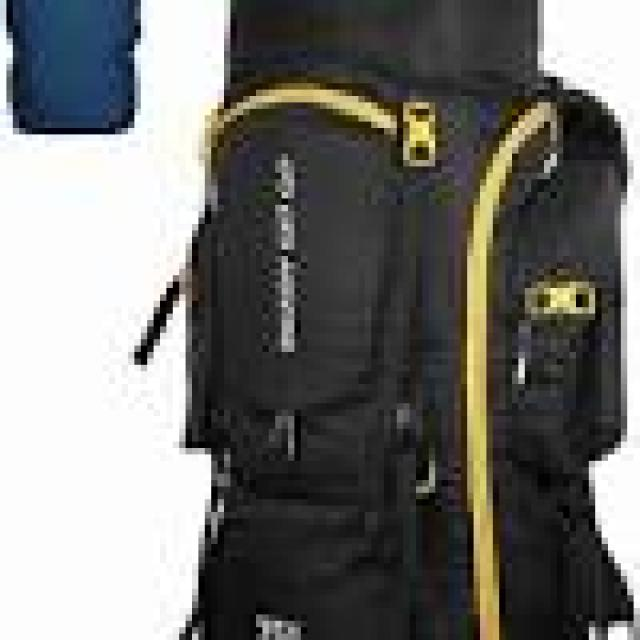backpack: (129, 1, 635, 635)
